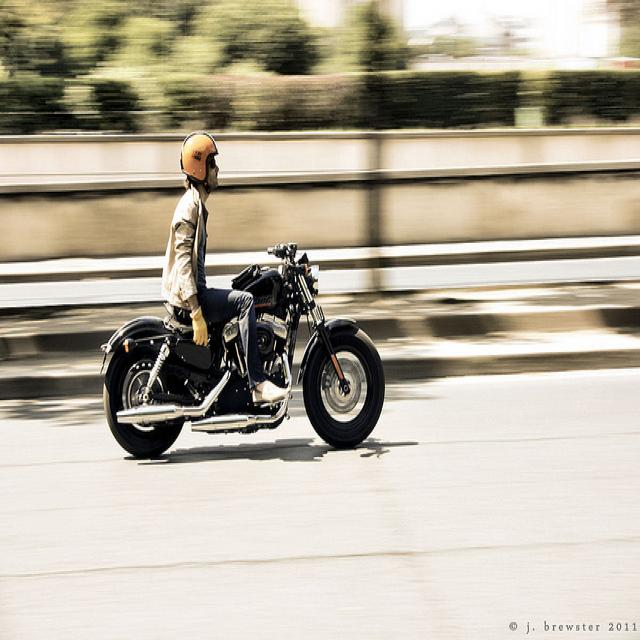motor: (101, 242, 384, 458)
